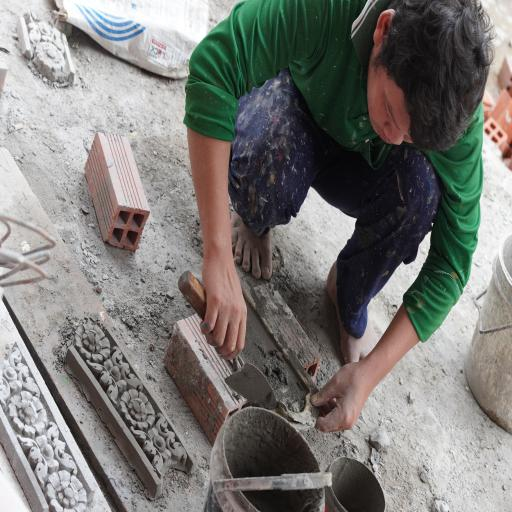hoa: (6, 389, 48, 443), (44, 465, 88, 512), (119, 383, 158, 433), (70, 322, 114, 366)
la: (47, 419, 82, 475), (9, 346, 43, 401), (112, 339, 144, 393), (18, 432, 48, 485), (130, 429, 161, 476), (159, 412, 186, 464), (86, 363, 119, 405), (0, 368, 11, 414)
